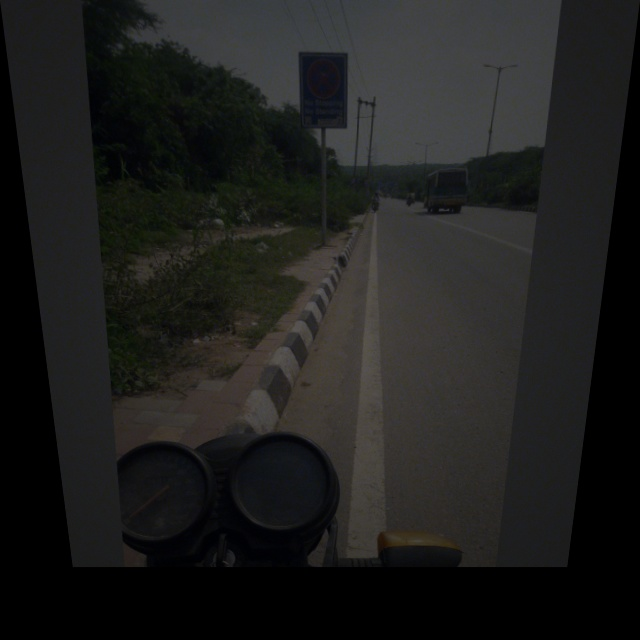No_Stopping_or_Standing: (299, 50, 345, 104)
